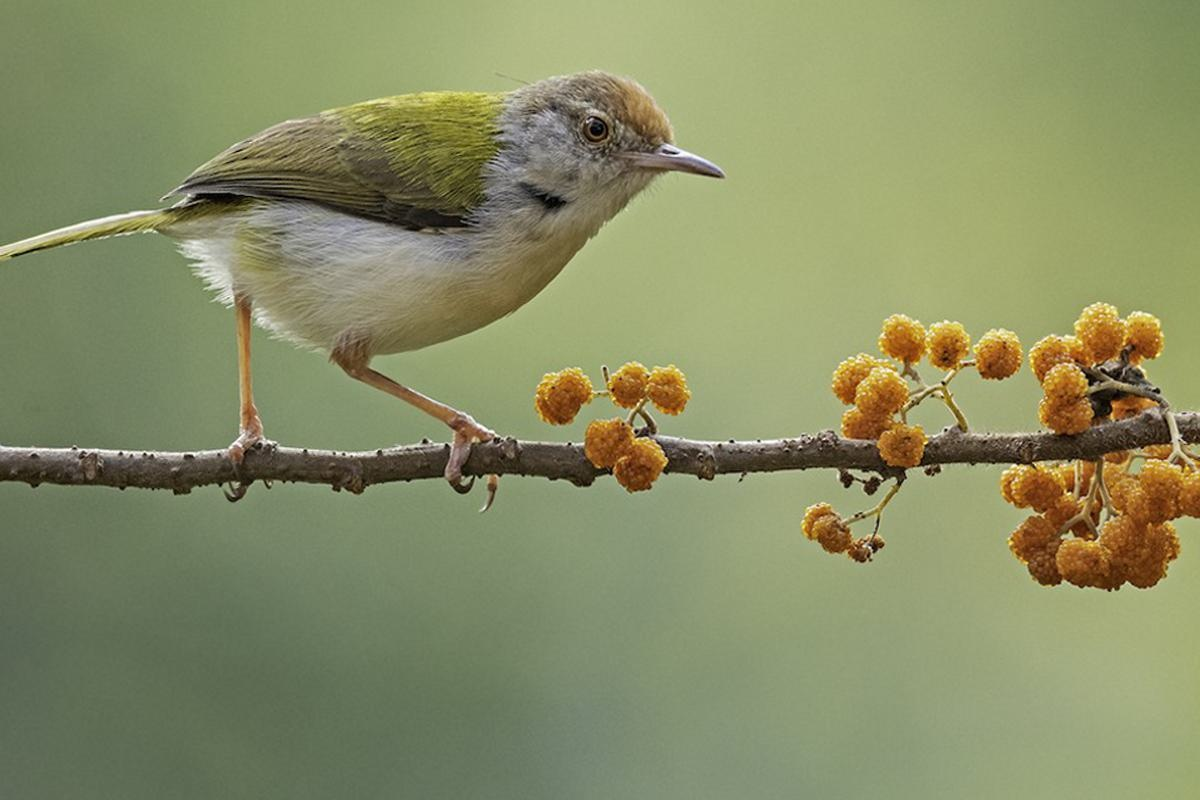tailorbird: (26, 54, 736, 530)
